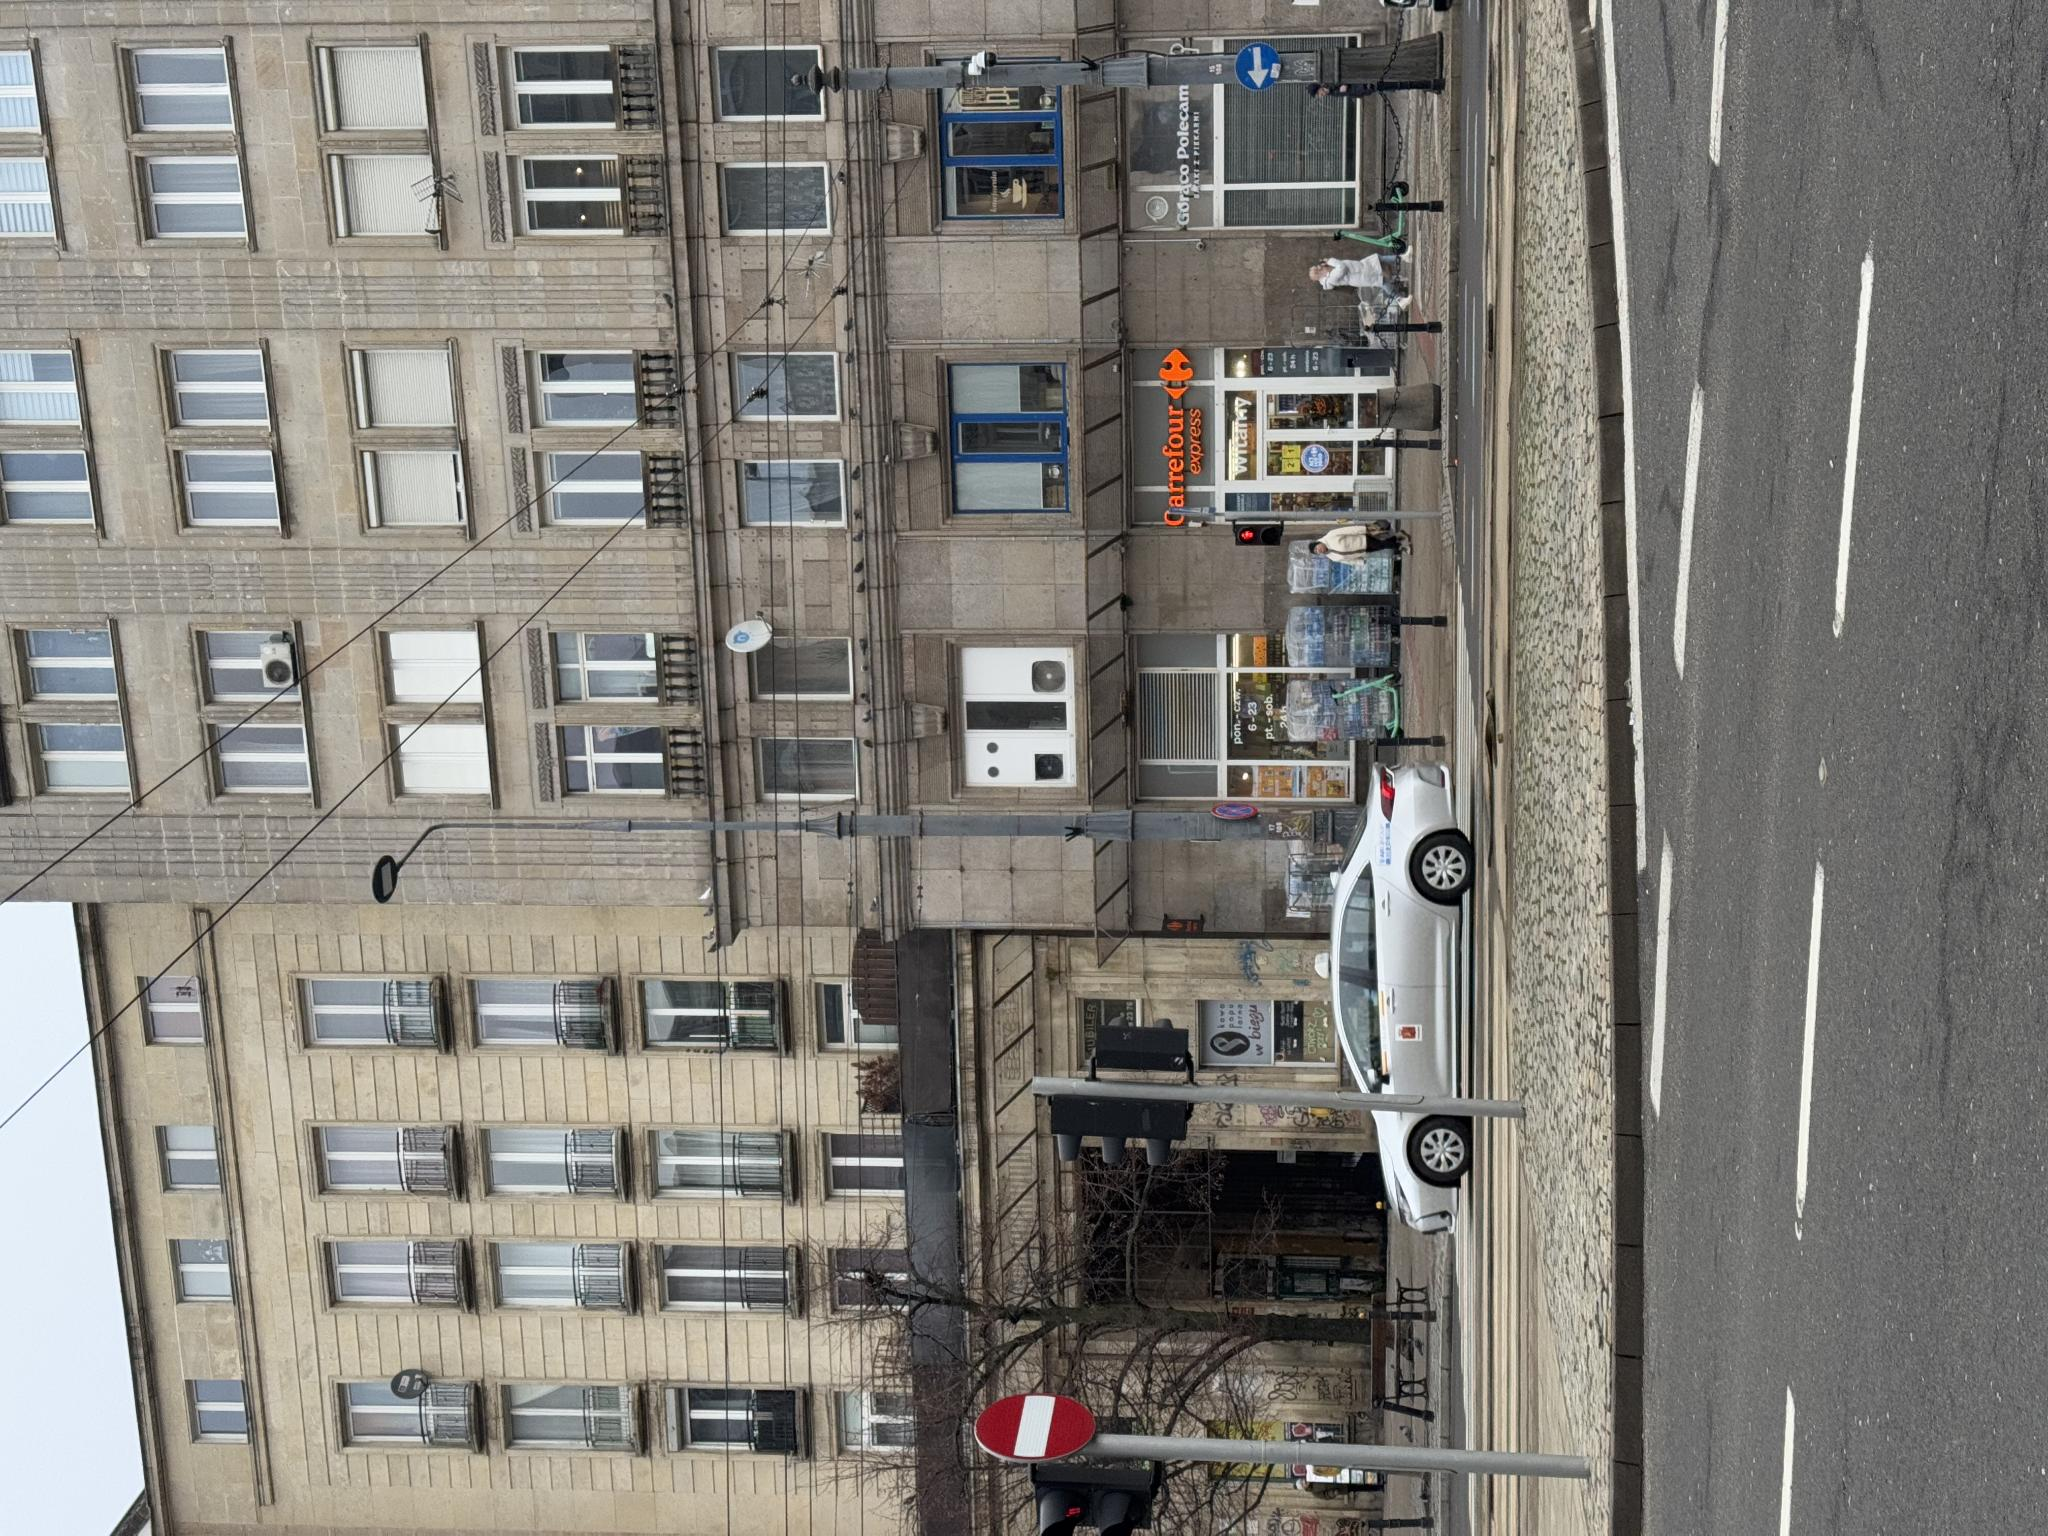mandatory: (1445, 1234, 1493, 1283)
prohibitory: (73, 971, 145, 1097), (716, 1212, 734, 1257)
